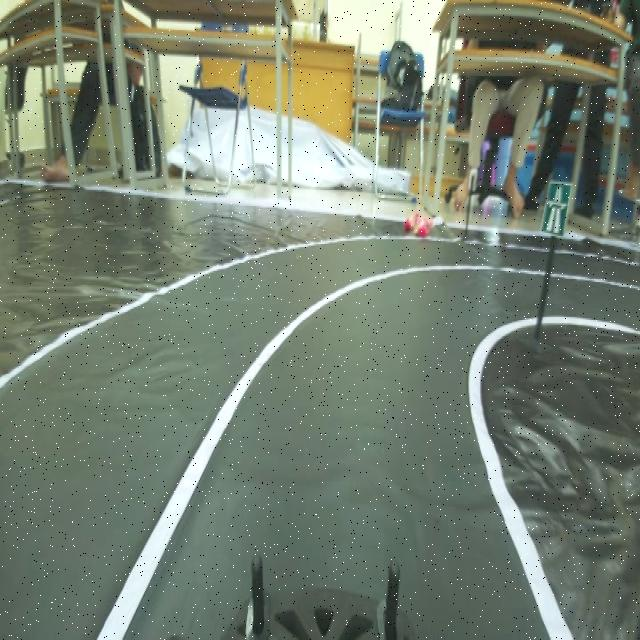highway_entry: (542, 168, 572, 247)
